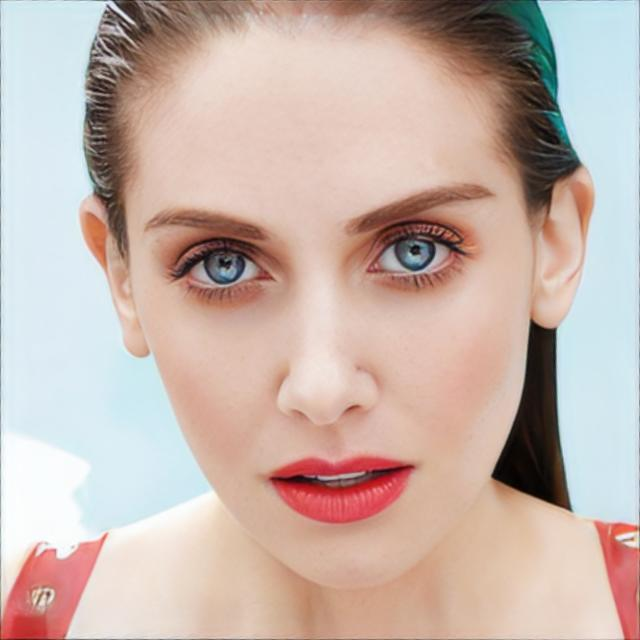neutral: (121, 0, 534, 591)
